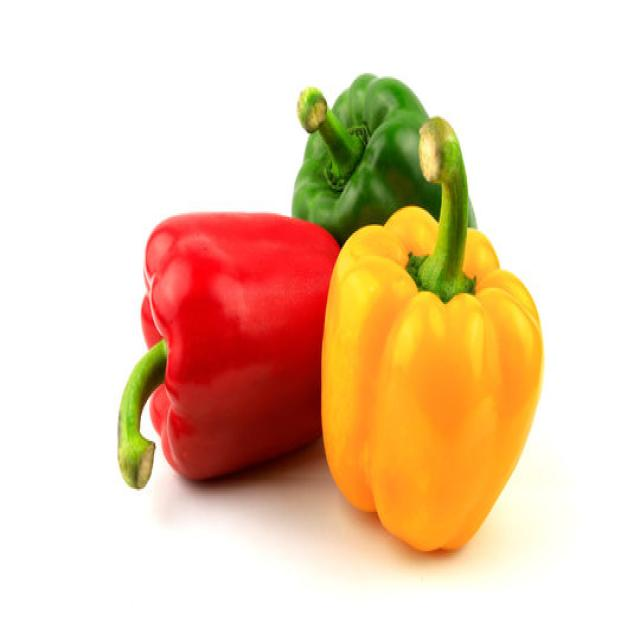Bell Pepper: (319, 114, 544, 553), (116, 210, 340, 487), (292, 76, 478, 248)
